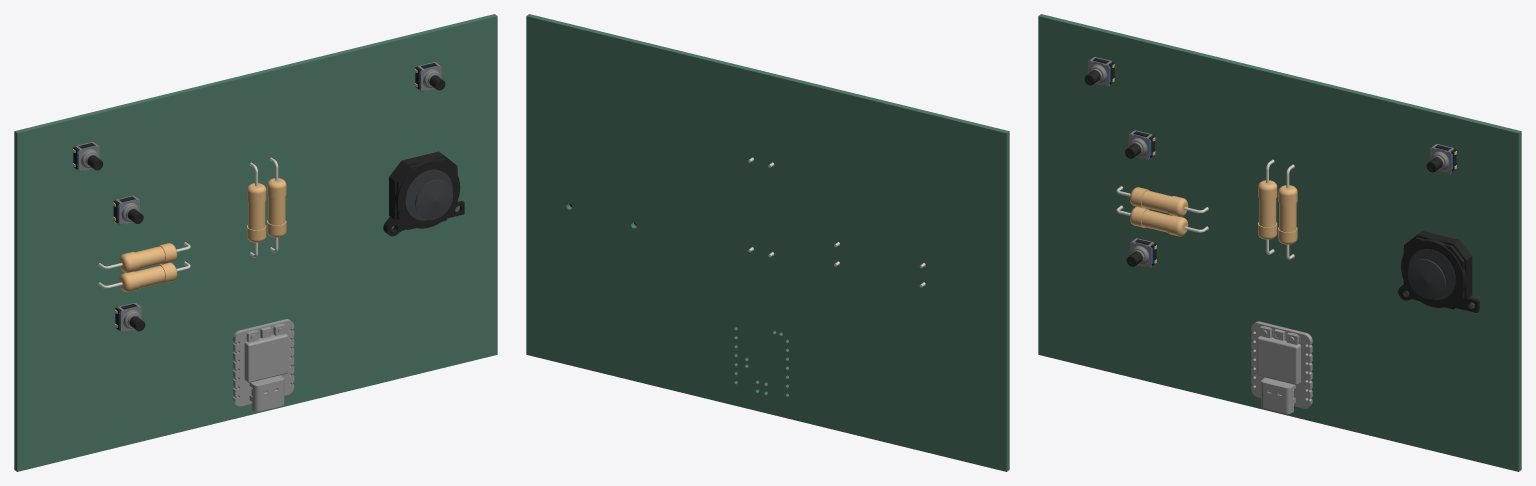
Rendered from InitialsControllerCircuitBoard.fbx.
3 renders of one model, left to right at view 1: azimuth 30°, elevation 25°; view 2: azimuth 150°, elevation 25°; view 3: azimuth 330°, elevation 25°, orthographic.
Visible parts, largest first — view 1: Body1 (×10), Body47, Body32, Body3, Body24, Body2; view 2: Body1; view 3: Body1 (×10), Body47, Body32, Body3, Body24, Body2.
Part boxes in pixels (x1,y1,x2,y2): Body1 (×10): (14,14,497,471); Body47: (244,333,287,382); Body32: (233,319,294,406); Body3: (415,179,452,219); Body24: (249,375,284,411); Body2: (405,169,452,220); Body1: (526,14,1009,471); Body1 (×10): (1038,14,1521,471); Body47: (1257,336,1300,384); Body32: (1251,321,1312,408); Body3: (1408,259,1445,299); Body24: (1261,377,1295,413); Body2: (1408,249,1455,299).
Bounding box in the file's own units: 142 × 96 × 11.
